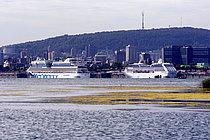Ship: (25, 56, 96, 83)
